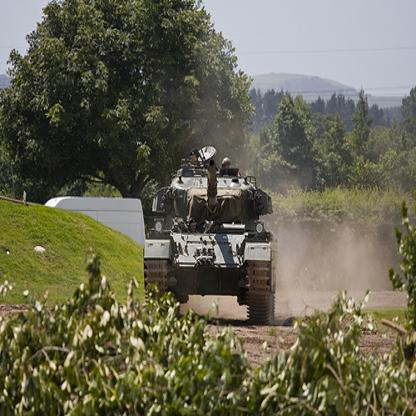Tank: (140, 145, 288, 326)
